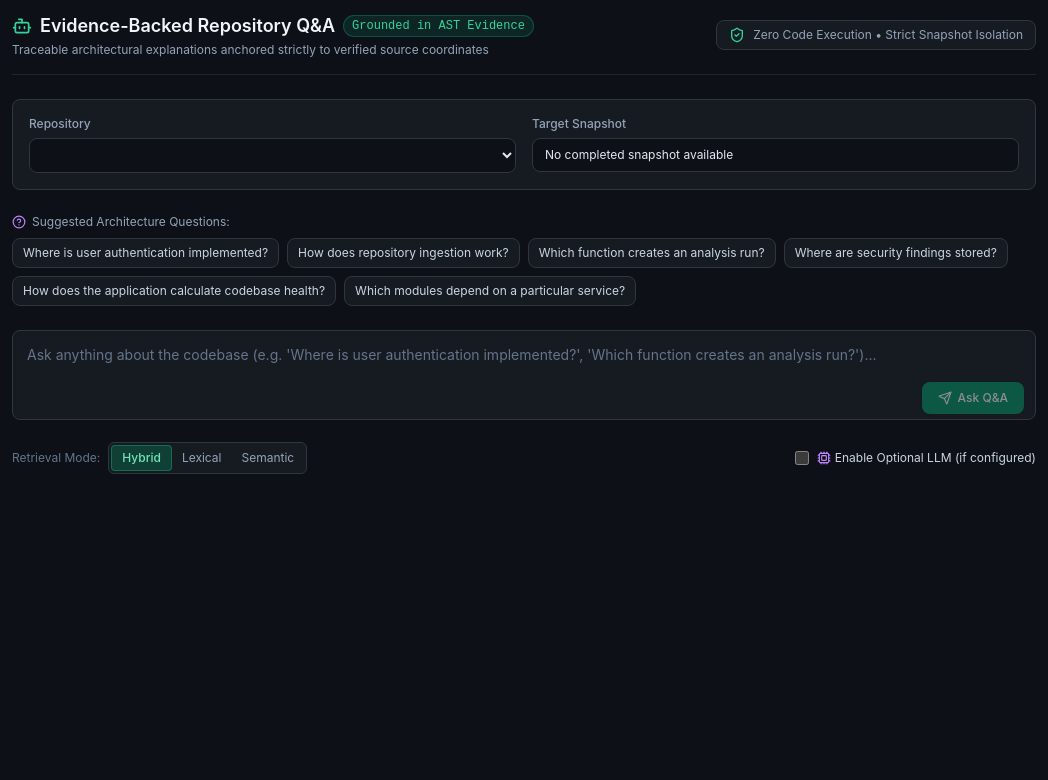
AIAssistantPage Component › displays transparent insufficient-evidence state when no evidence is found
Replace the text in the text box with placeholder "Ask anything about the codebase" with "How is cloud deployment configured?" at (524, 375), box [12,330,1036,420]
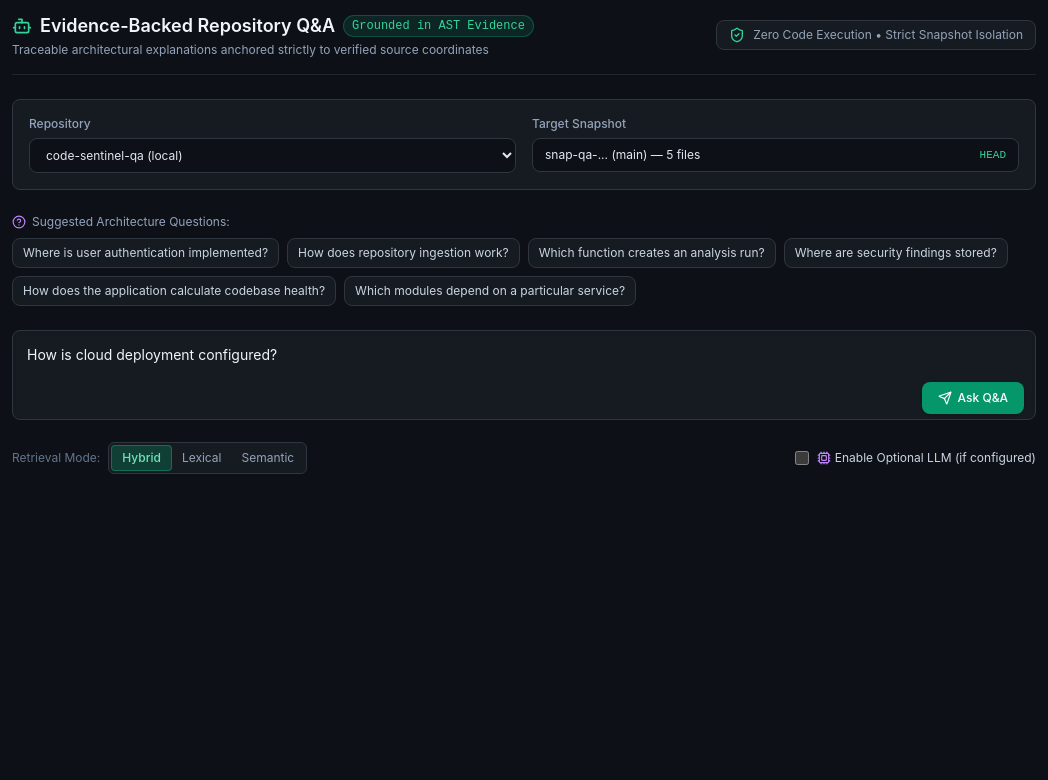
Click the button "Ask Q&A" at (973, 398), box [922,382,1024,414]
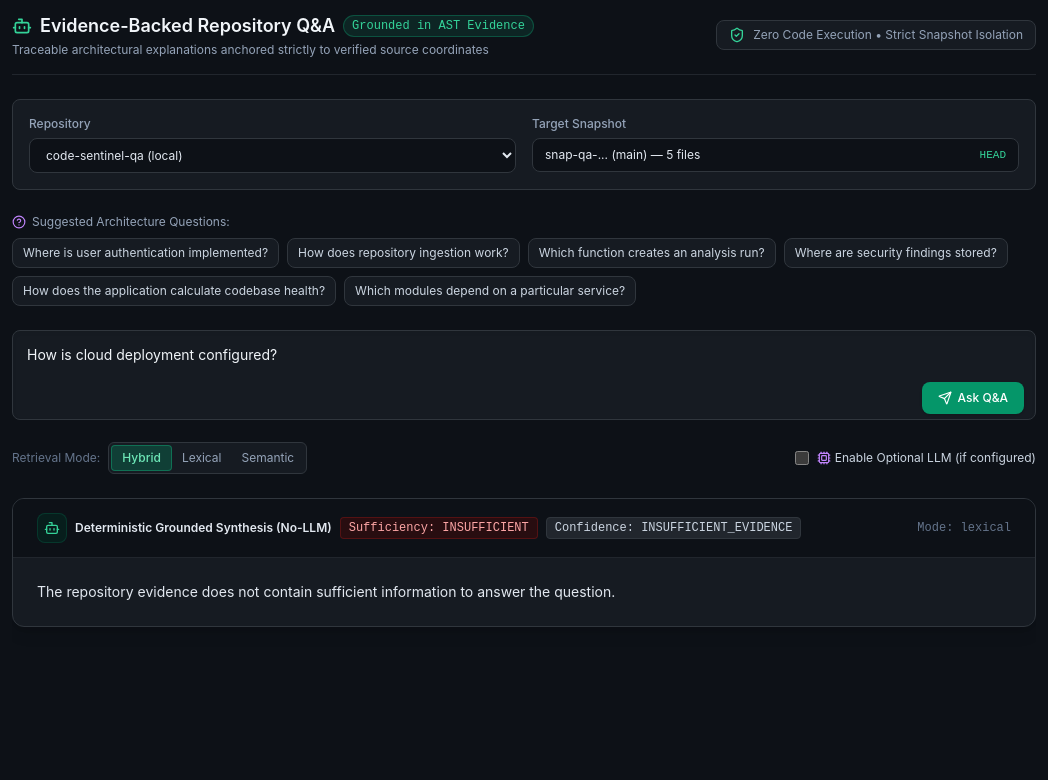
Check: the text "Sufficiency: INSUFFICIENT" is shown, box [340,517,538,539]
Check: the text "Confidence: INSUFFICIENT_EVIDENCE" is shown, box [546,517,802,539]
Check: the text "does not contain sufficient information" is shown, box [37,583,615,600]
